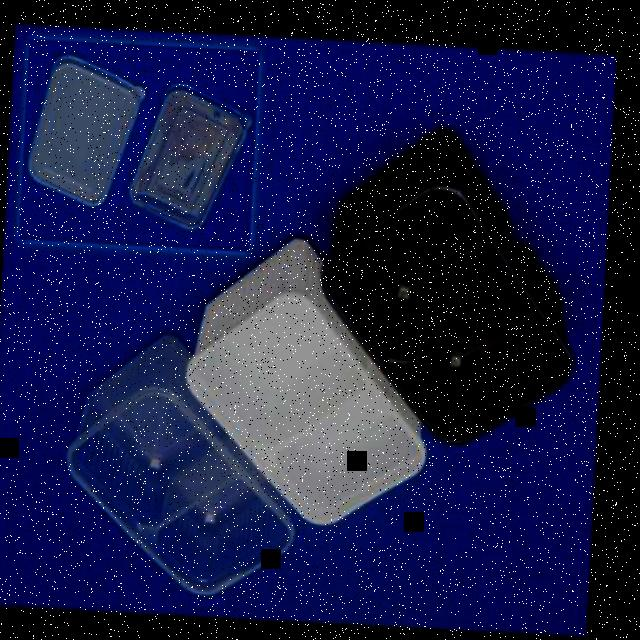plastic_box: (316, 117, 586, 450), (181, 232, 439, 530)
